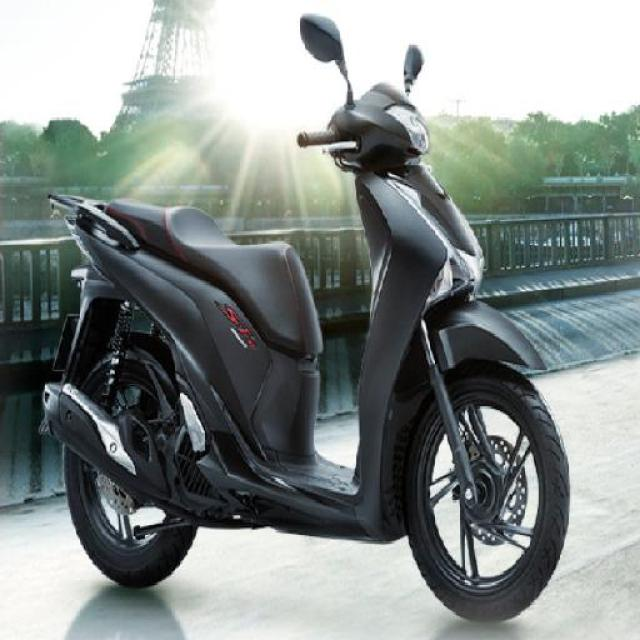All: (28, 82, 577, 622)
Head: (296, 82, 436, 164)
Tail: (42, 184, 121, 274)
